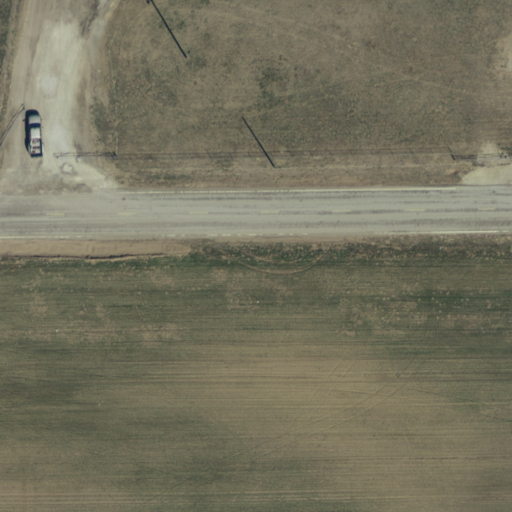DT: (262, 154, 288, 182), (176, 46, 197, 70)
